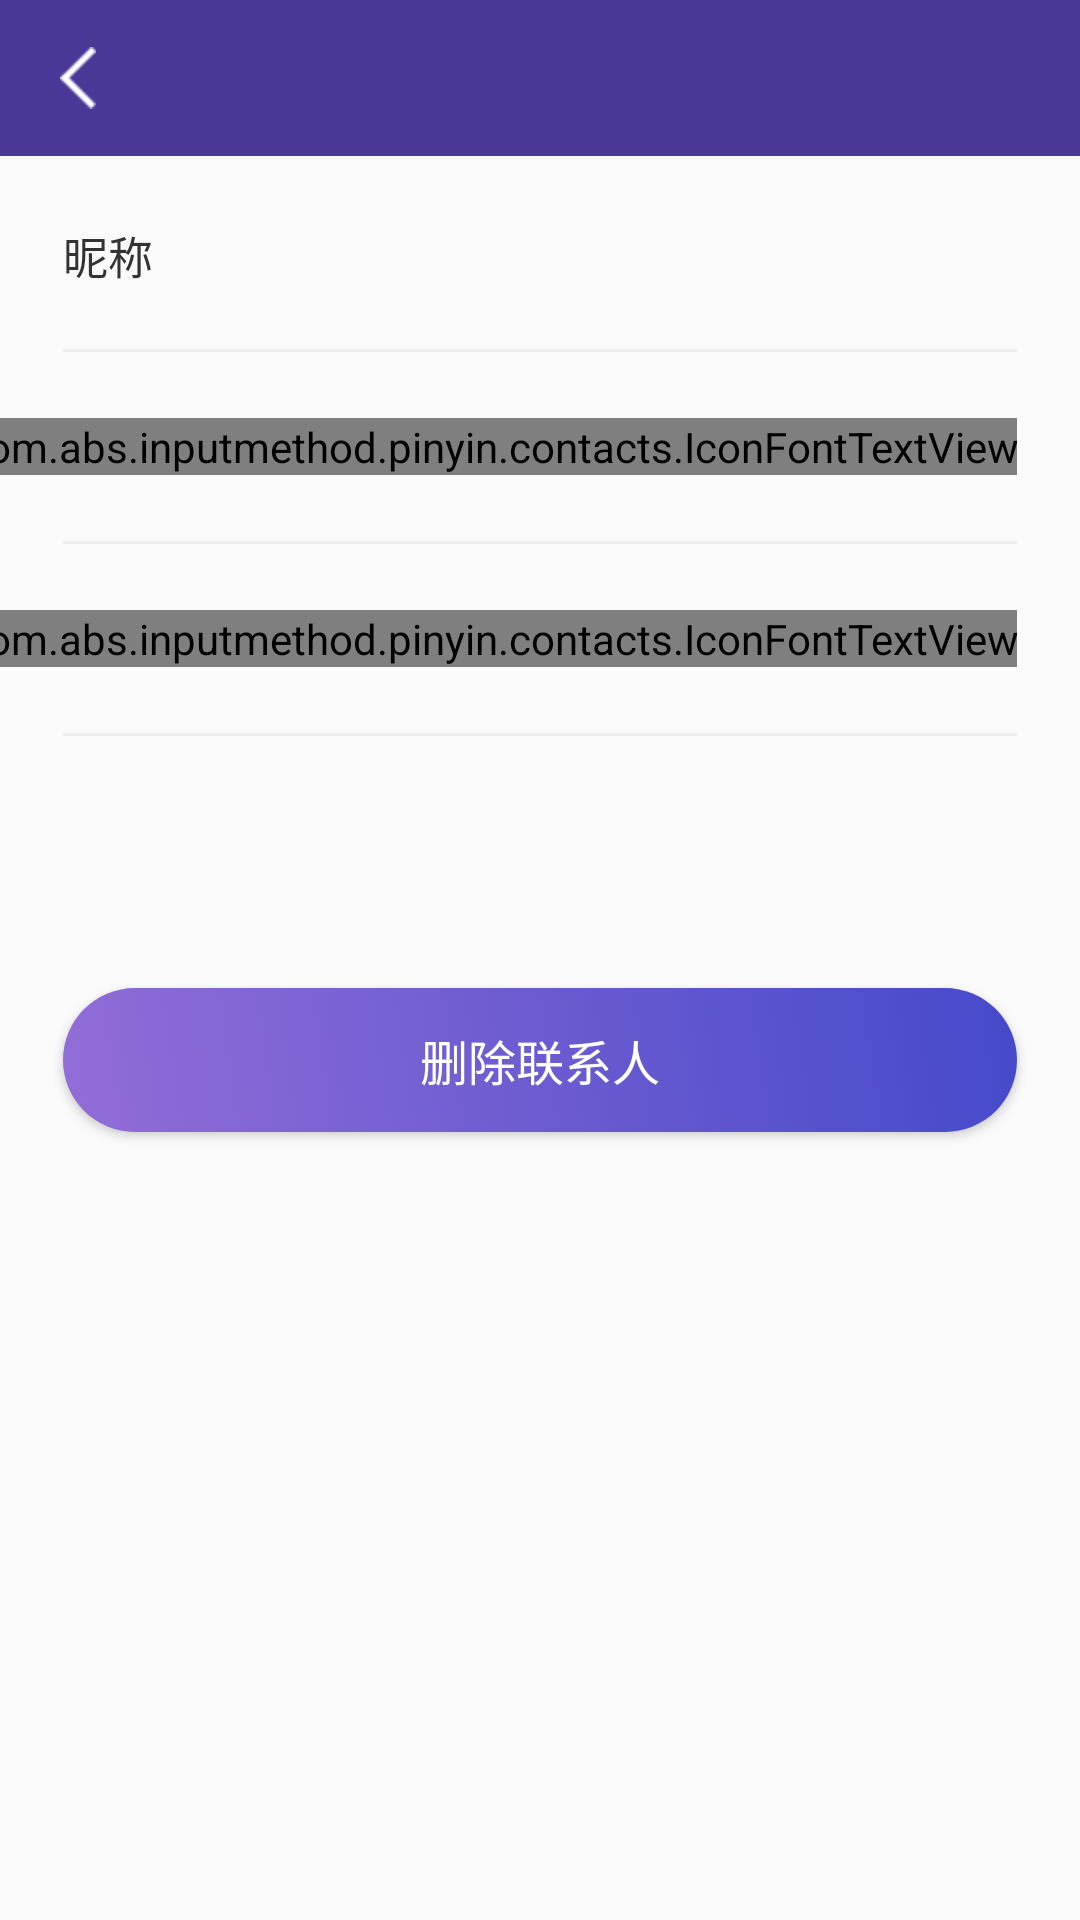

Screen size 1080*1920. Icon name, then its box in pixels as [x1,y1,x2,y2]:
title back: [60,47,96,109]
